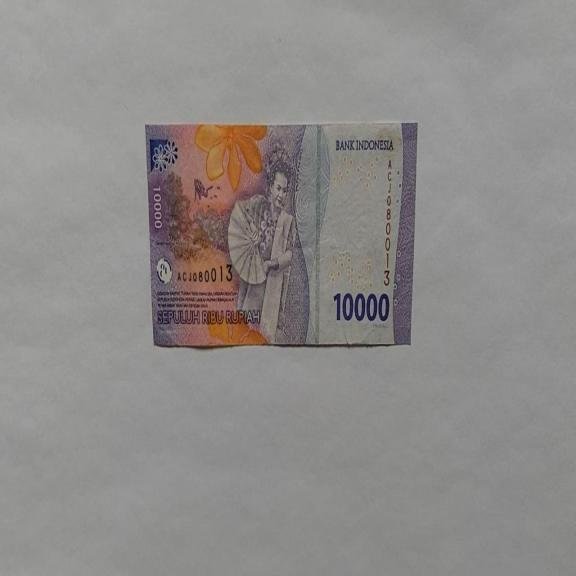Kertas: (145, 121, 417, 349), (333, 289, 390, 324)
